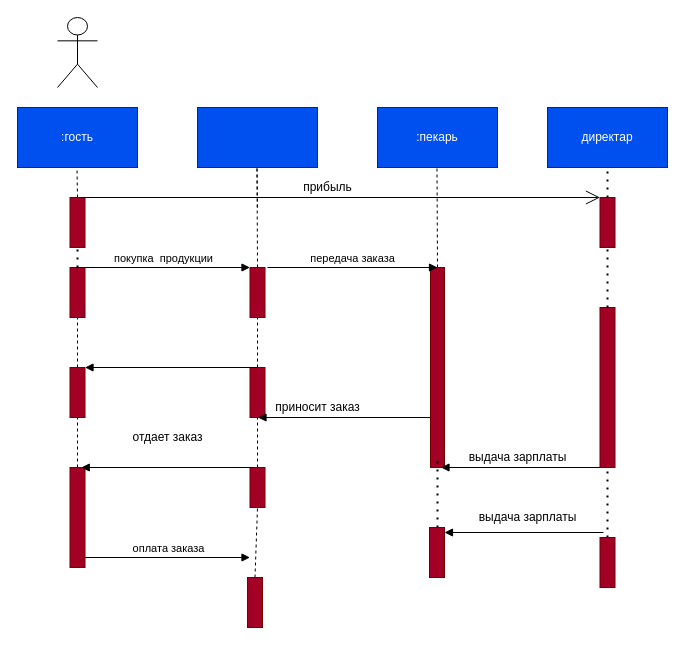
The diagram is 685 pixels wide and 645 high, and some of its shapes have lost their labels. The shapes that lost their labels are listed below. From the top down, each one's box as (x1, y1, x2, y2) in pixels, then its label:
(56, 16, 98, 88): клиент
(196, 106, 318, 168): :продавец
